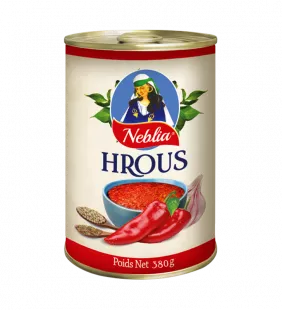NEBLIA: (53, 20, 228, 285)
